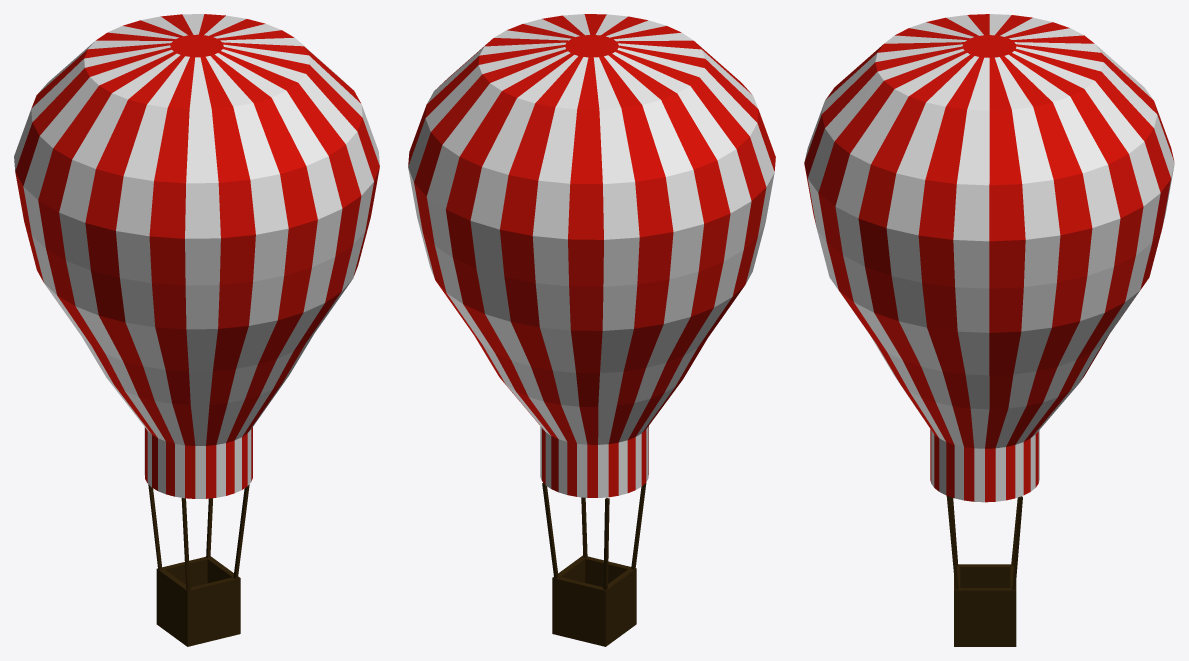
File: air-balloon-v2.dae
3 renders of one model, left to right at view 1: azimuth 30°, elevation 25°; view 2: azimuth 150°, elevation 25°; view 3: azimuth 270°, elevation 25°, orthographic.
Visible parts, largest first — view 1: Cylinder; view 2: Cylinder; view 3: Cylinder.
Boxes of the visible parts, x1,y1,x2,y2 form: Cylinder: (14,14,379,646); Cylinder: (408,14,775,646); Cylinder: (804,14,1174,646).
Bounding box in the file's own units: 6.76 × 6.76 × 11.83.
